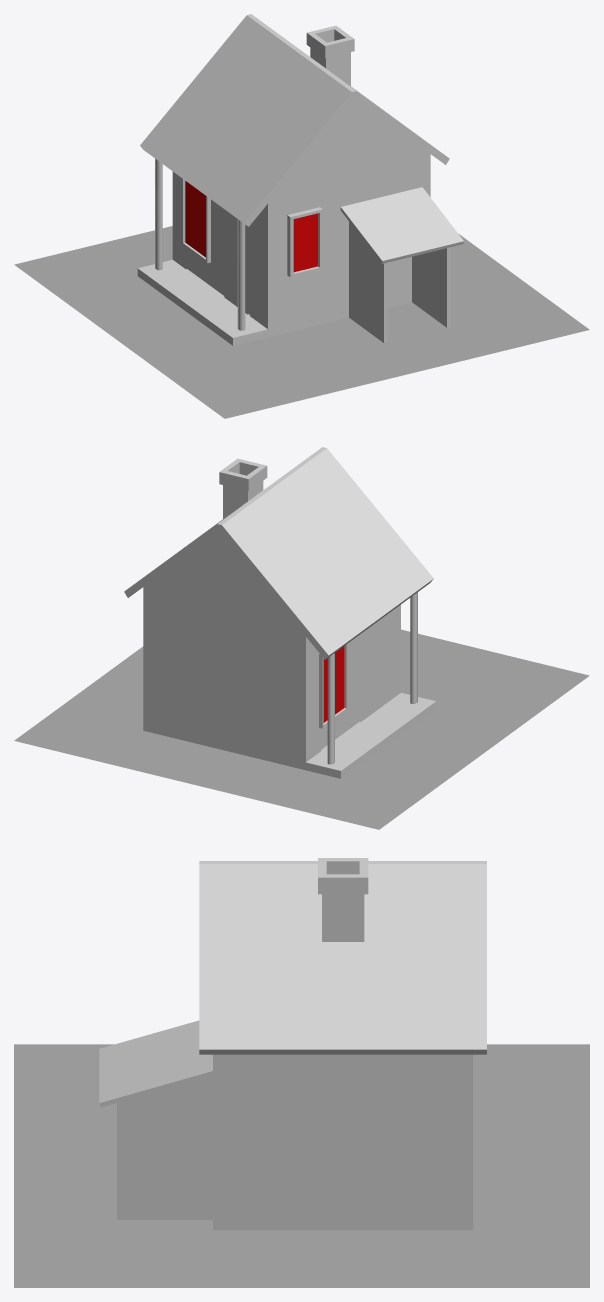
File: Building_HouseA_2.fbx
The picture shows the model from 3 angles, top to bottom: view 1: azimuth 30°, elevation 25°; view 2: azimuth 150°, elevation 25°; view 3: azimuth 270°, elevation 25°; orthographic projection. The views are drawn at different scales.
Parts seen in each view (by area): view 1: HouseA_Building, pResidentail_BASE; view 2: HouseA_Building, pResidentail_BASE; view 3: HouseA_Building, pResidentail_BASE.
Part boxes in pixels (x1,y1,x2,y2): HouseA_Building: (137, 14, 463, 345); pResidentail_BASE: (14, 226, 589, 418); HouseA_Building: (124, 447, 436, 778); pResidentail_BASE: (14, 629, 589, 829); HouseA_Building: (99, 858, 486, 1230); pResidentail_BASE: (14, 1044, 589, 1287).
Bounding box in the file's own units: 4.5 × 2.82 × 4.5.
